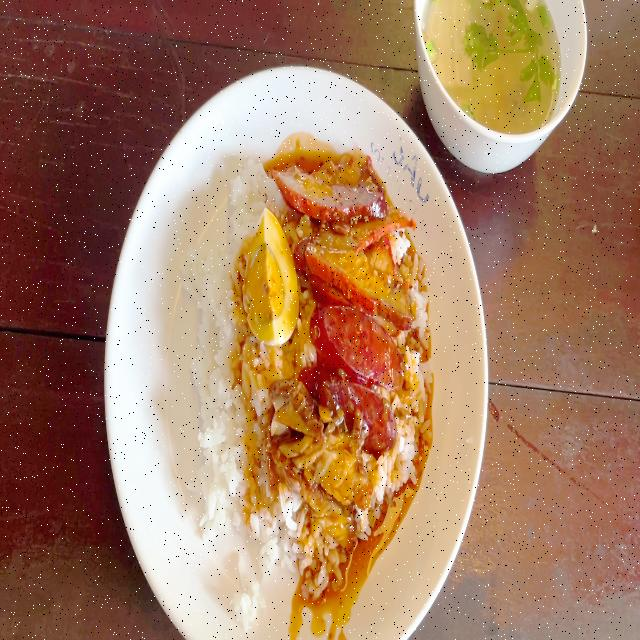boiled_egg: (244, 211, 292, 334)
chainese_sausage: (307, 304, 390, 410)
crispy_pork: (283, 421, 372, 507), (259, 381, 309, 466)
red_pork: (284, 141, 377, 235), (302, 208, 398, 299)
red_pork_and_crispy_pork: (191, 154, 421, 546)
rice: (195, 226, 241, 519), (229, 344, 276, 610)
